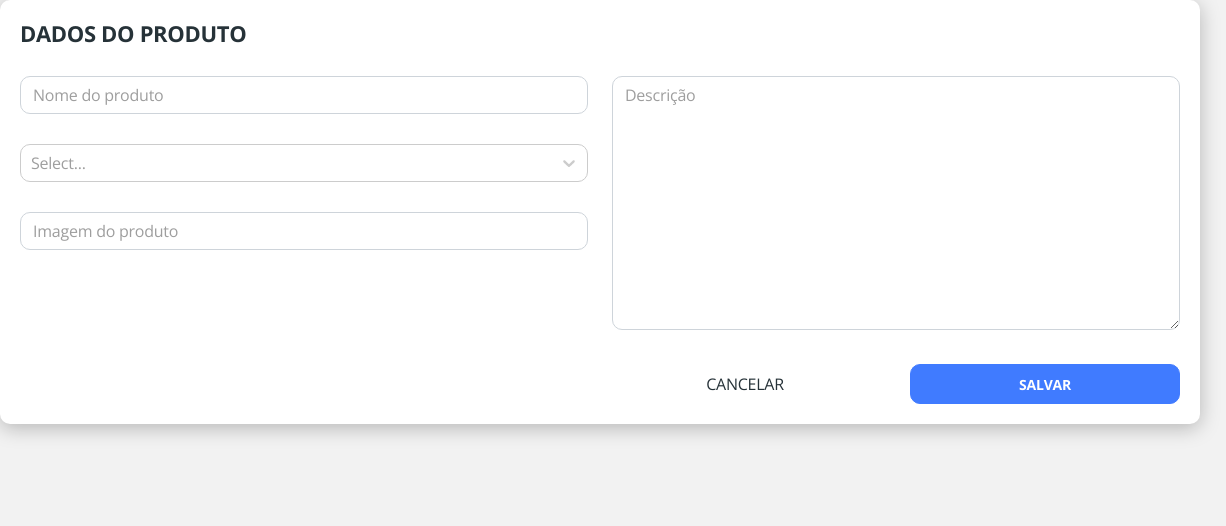
it: Product form create tests › Should show 5 validations messages when just clicking on submit
Step 1. Click the button "SALVAR" → {"x": 1045, "y": 384}, box [910,364,1180,404]
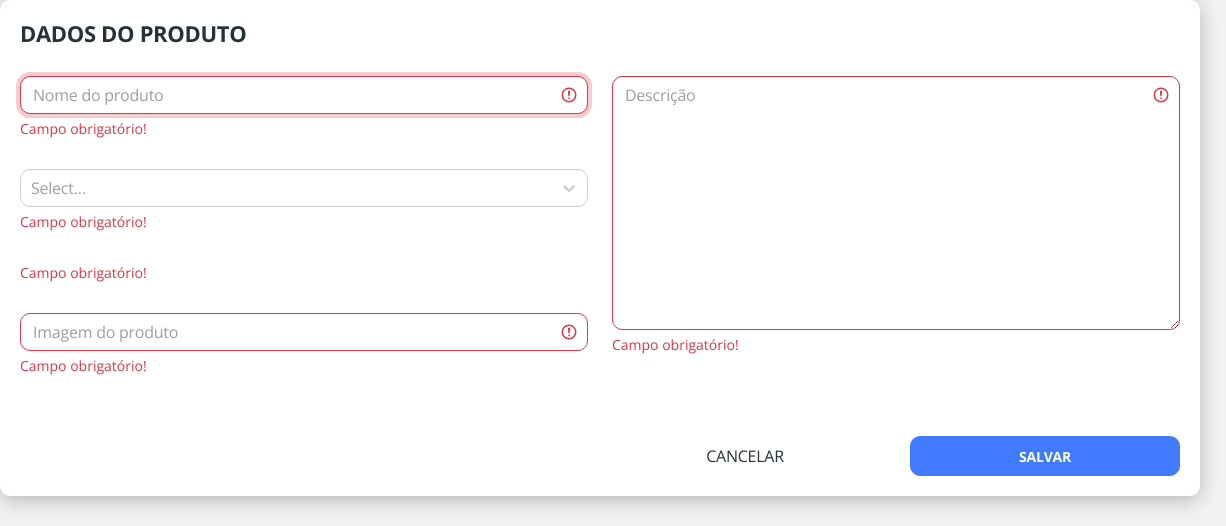
Now the text "Campo obrigatório!" is shown 5 times, box [20,119,147,138]; [20,212,147,231]; [20,263,147,282]; [20,356,147,375]; [612,335,739,354]
